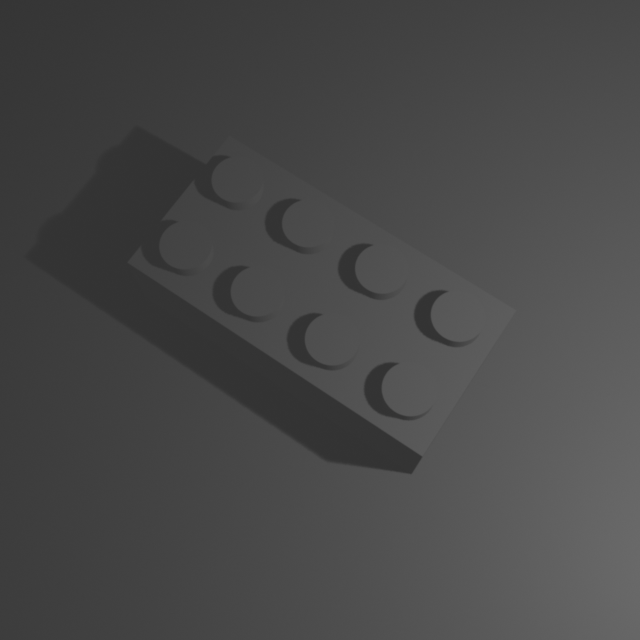lego_2x4: (124, 127, 520, 474)
